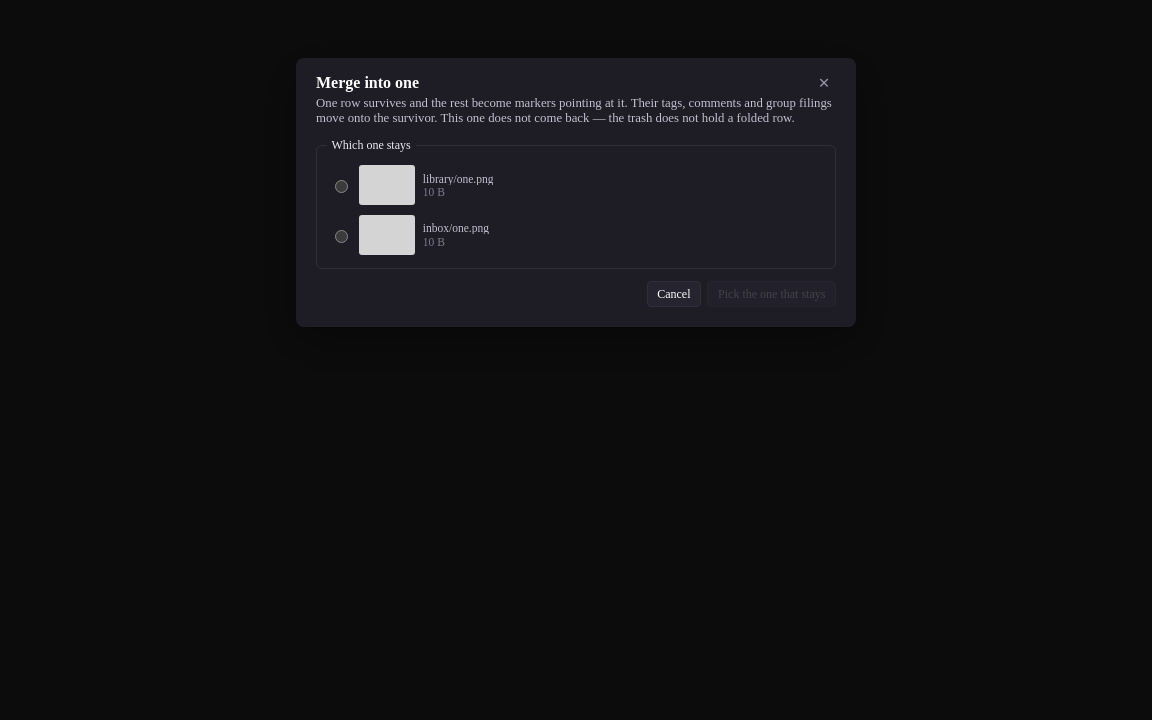
Test: MergeDialog — the way through › takes the confirm button away again when the survivor changes
Click the radio button labelled "library/one.png 10 B".
click(341, 187)  # box x1=335 y1=180 x2=348 y2=193
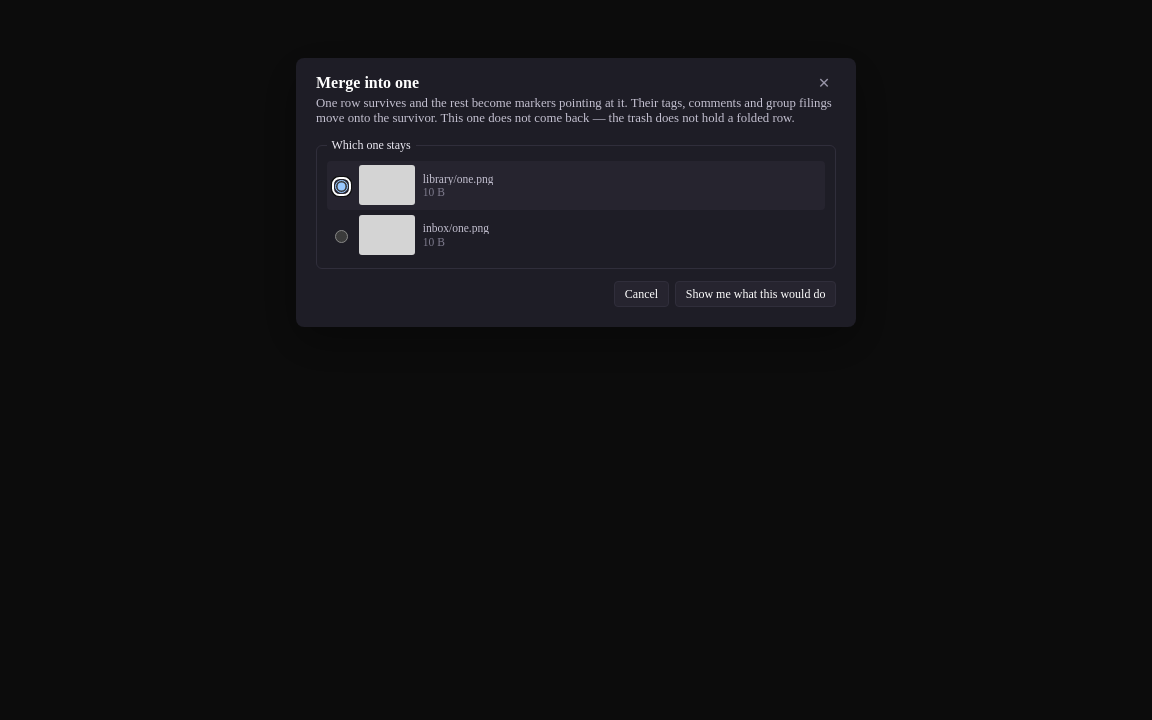
Click the button "Show me what this would do".
click(756, 294)  # box x1=675 y1=281 x2=836 y2=307
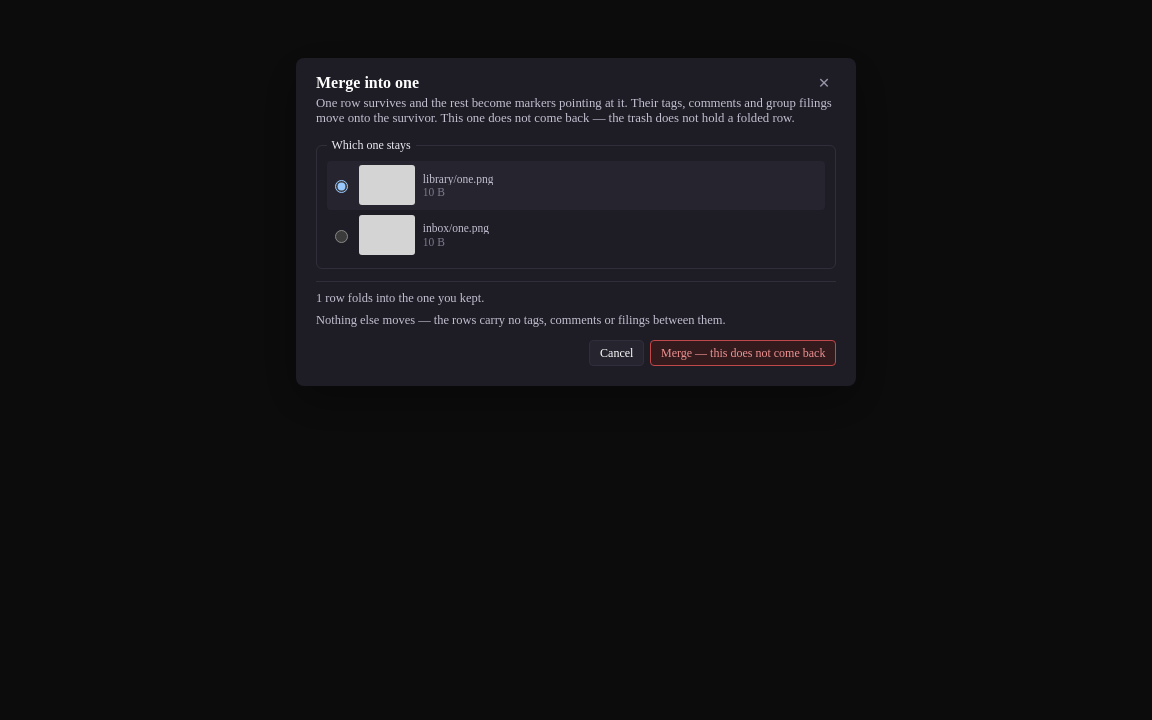
Click the radio button labelled "inbox/one.png 10 B".
click(341, 236)  # box x1=335 y1=230 x2=348 y2=243
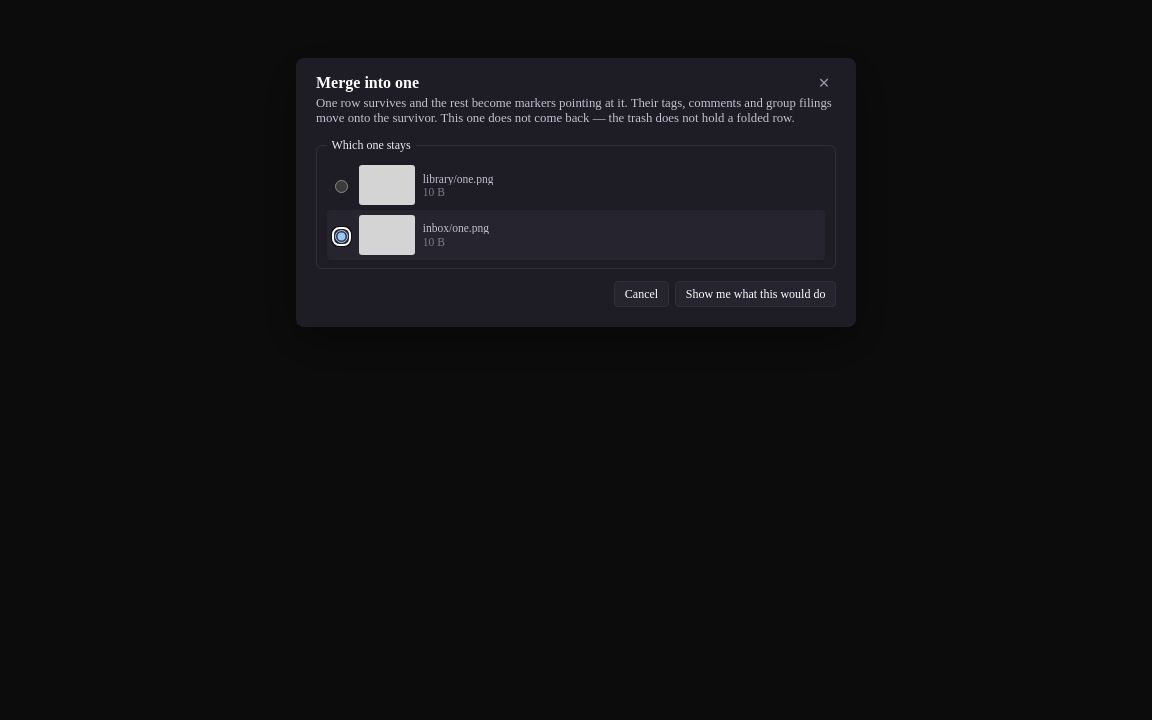
Expected: the button "does not come back" is not shown
Now the button "Show me what this would do" is shown, box x1=675 y1=281 x2=836 y2=307
